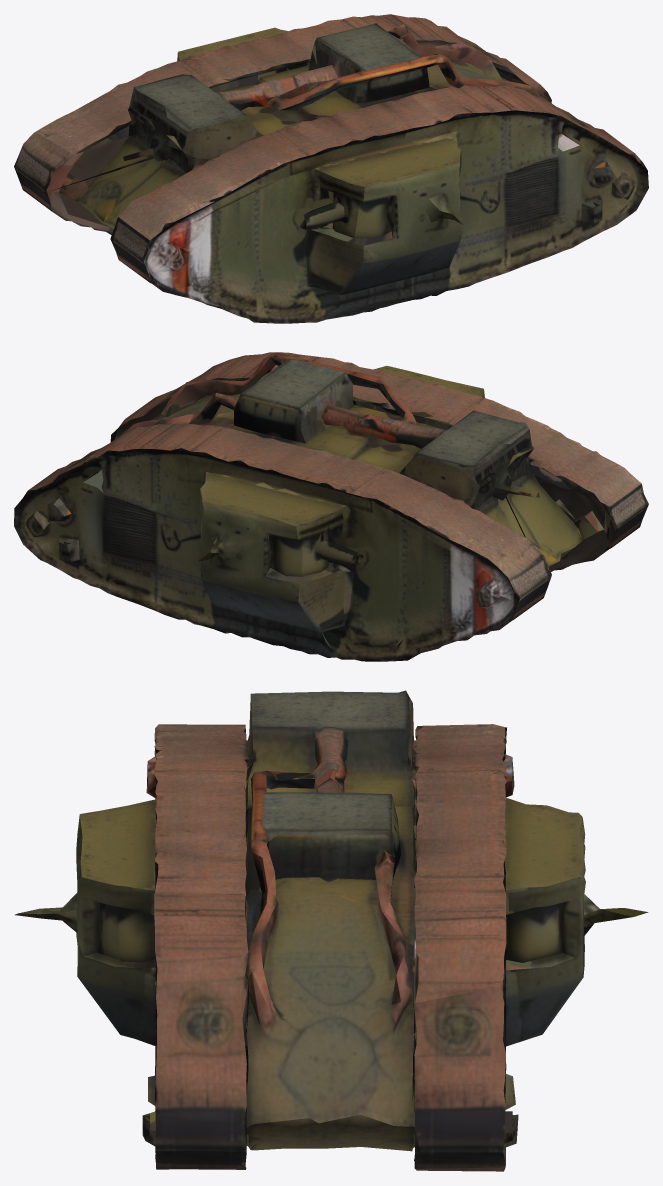
Rendered from markV.glb.
The picture shows the model from 3 angles, top to bottom: view 1: azimuth 30°, elevation 25°; view 2: azimuth 150°, elevation 25°; view 3: azimuth 270°, elevation 25°; orthographic projection. The views are drawn at different scales.
Parts seen in each view (by area): view 1: tmpf539dsyk.ply; view 2: tmpf539dsyk.ply; view 3: tmpf539dsyk.ply.
Part boxes in pixels (box(x1,y1,x2,y2)): tmpf539dsyk.ply: box(14, 14, 648, 323); tmpf539dsyk.ply: box(14, 352, 648, 661); tmpf539dsyk.ply: box(15, 690, 648, 1171).
Size of the model in its own units: 1.96 by 0.7601 by 1.58.
1 material, 1 textured.
